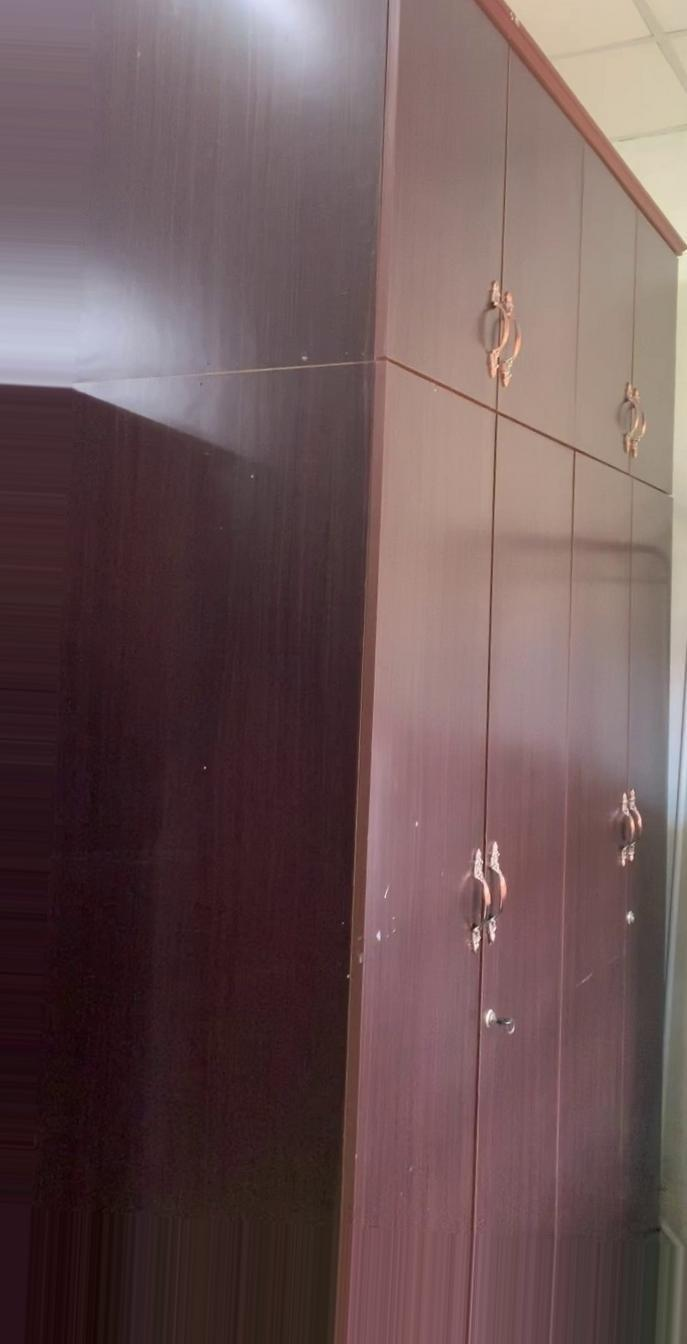Armario: (2, 0, 666, 1325)
